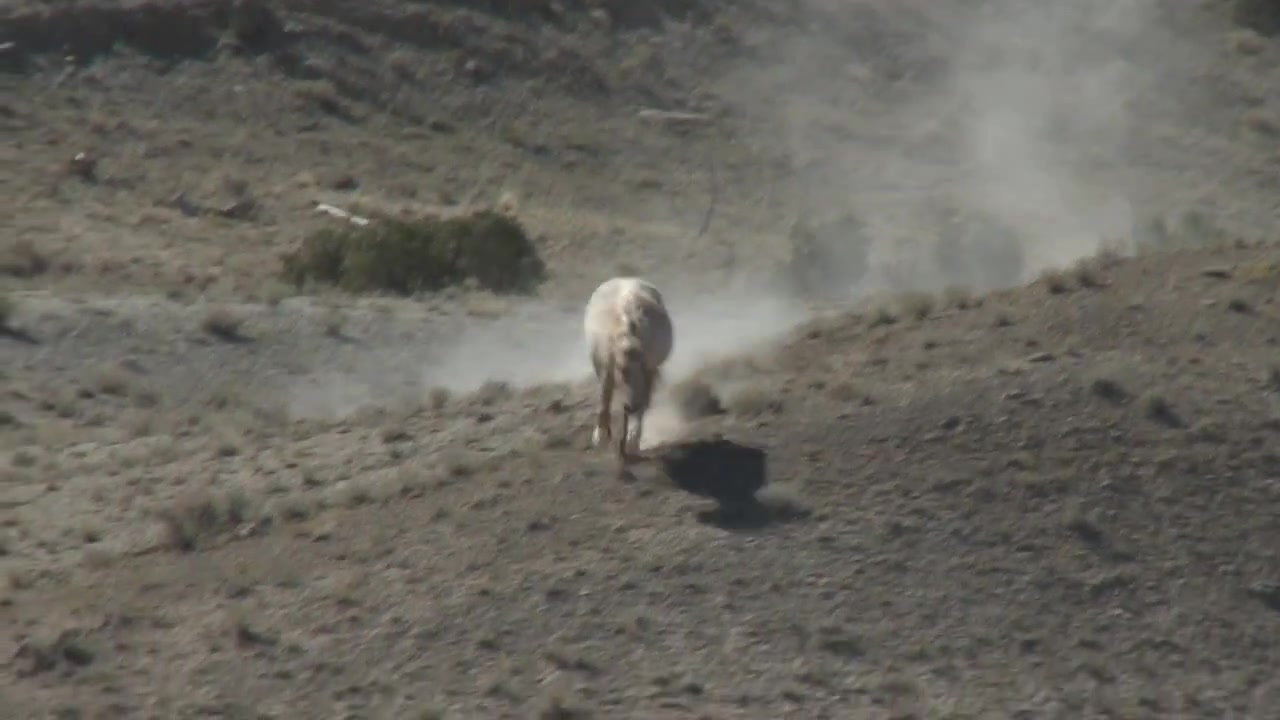horse: (581, 277, 675, 486)
